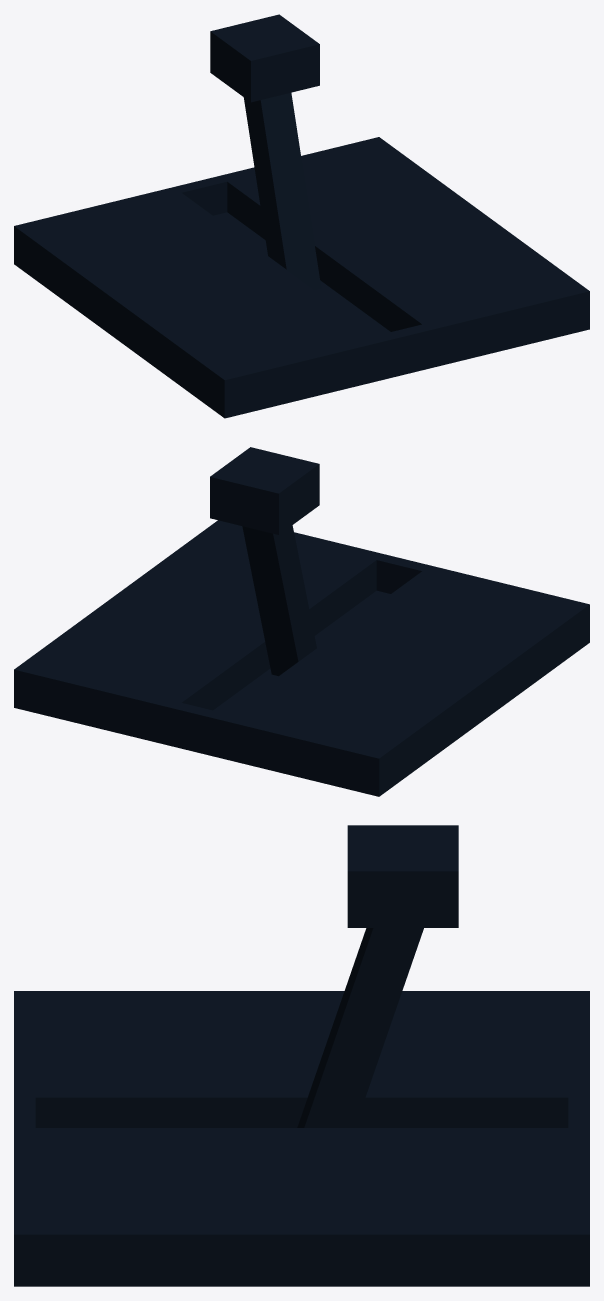
The model's file is lever.obj.
The picture shows the model from 3 angles, top to bottom: view 1: azimuth 30°, elevation 25°; view 2: azimuth 150°, elevation 25°; view 3: azimuth 270°, elevation 25°; orthographic projection. The views are drawn at different scales.
Parts seen in each view (by area): view 1: lever; view 2: lever; view 3: lever.
Boxes of the visible parts, x1,y1,x2,y2 form: lever: (14, 14, 589, 418); lever: (14, 447, 589, 796); lever: (14, 825, 589, 1286).
Bounding box in the file's own units: 1 × 0.6069 × 1.
